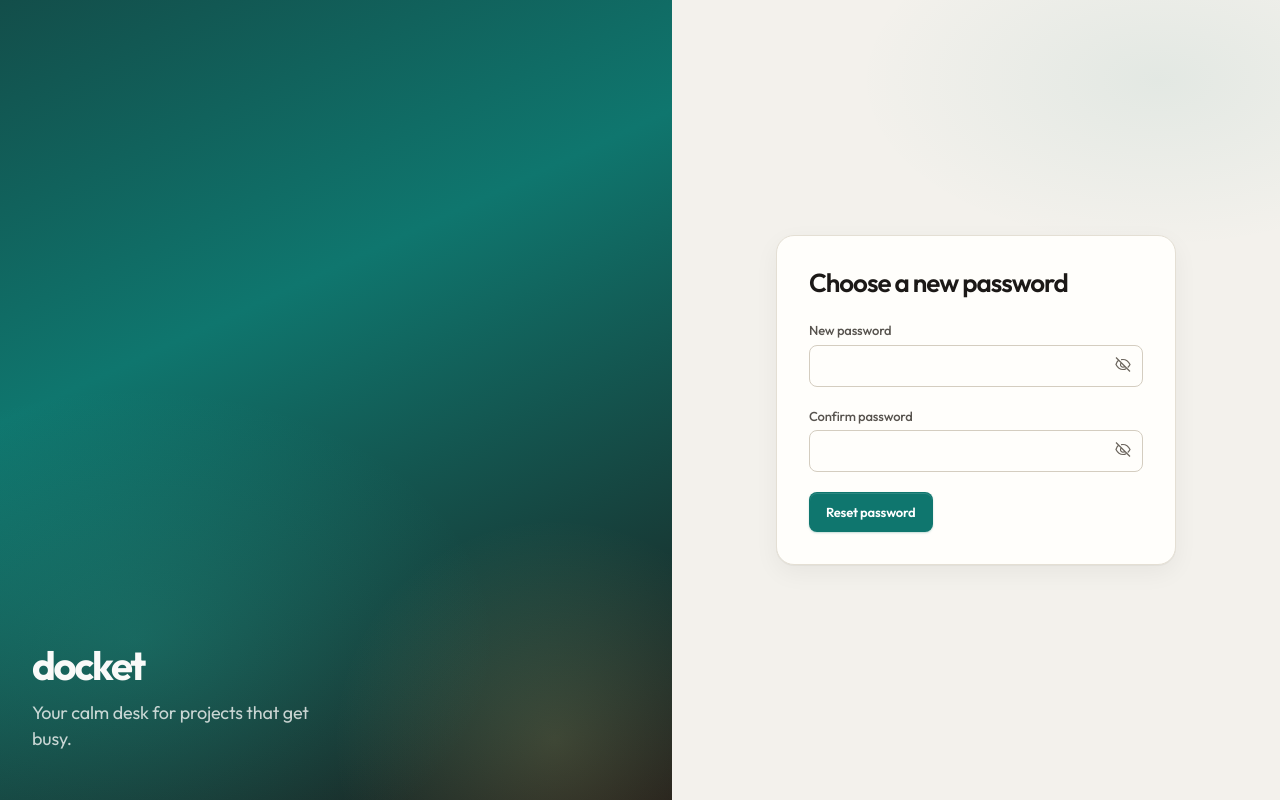
Test: ResetPasswordPage › shows success with a link to sign in after a matching reset
This screenshot has width=1280, height=800.
In the password field labelled "New password": (976, 366) left=809, top=344, right=1143, bottom=386, type "password123"
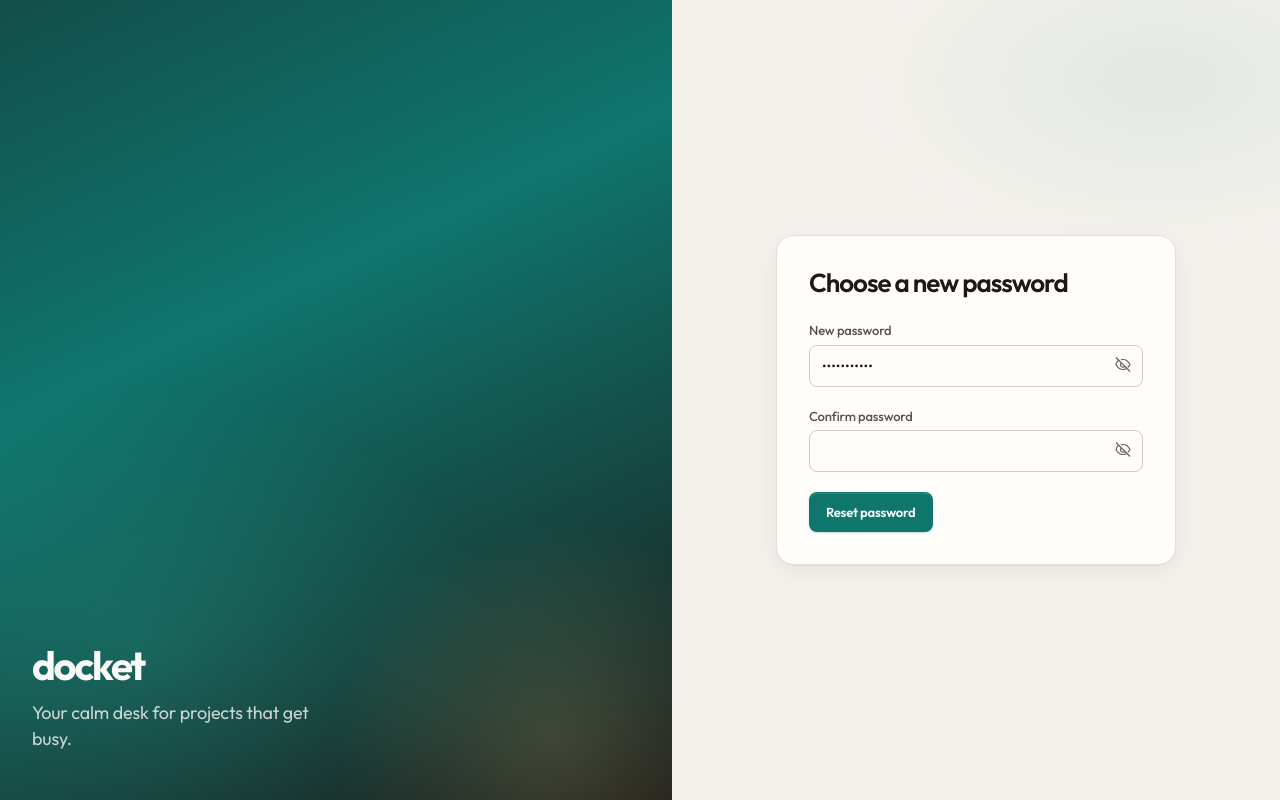
In the password field labelled "Confirm password": (976, 451) left=809, top=430, right=1143, bottom=472, type "password123"
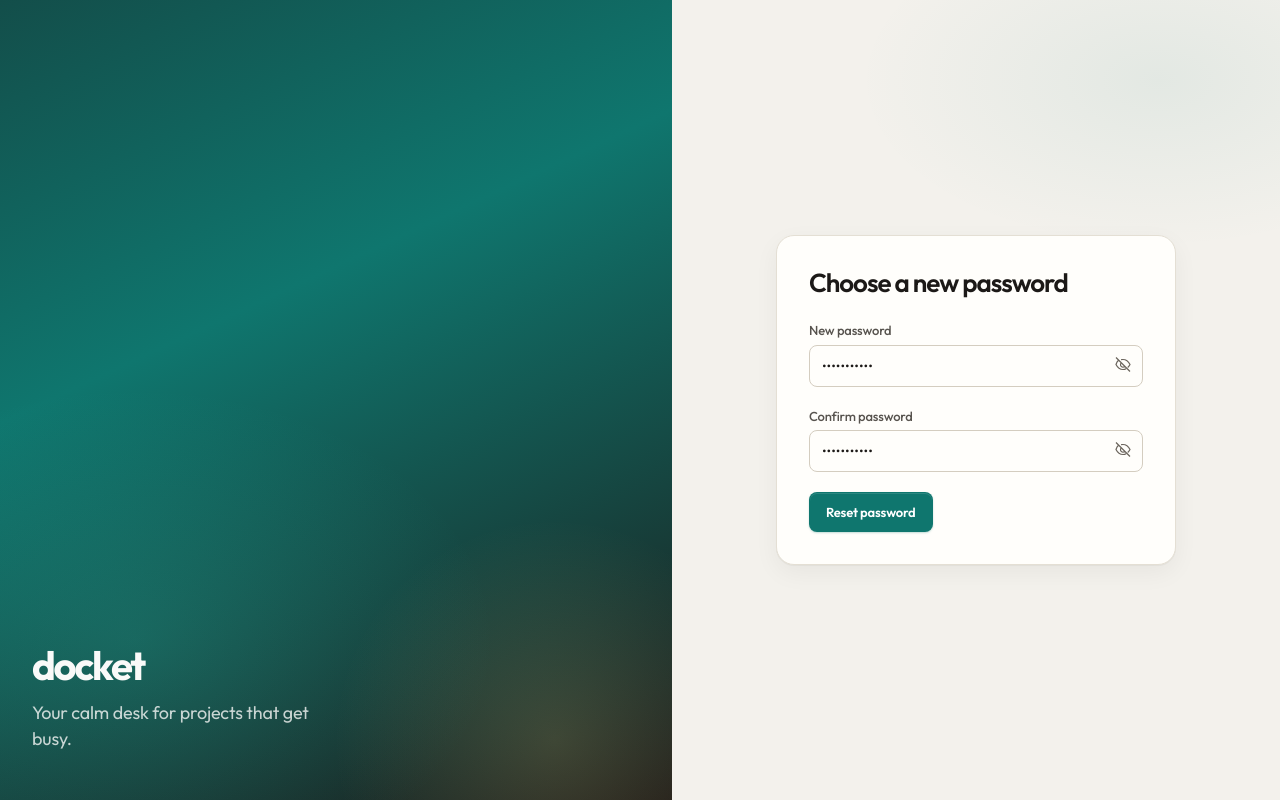
Click the button "Reset password": click(871, 512) left=809, top=492, right=932, bottom=532
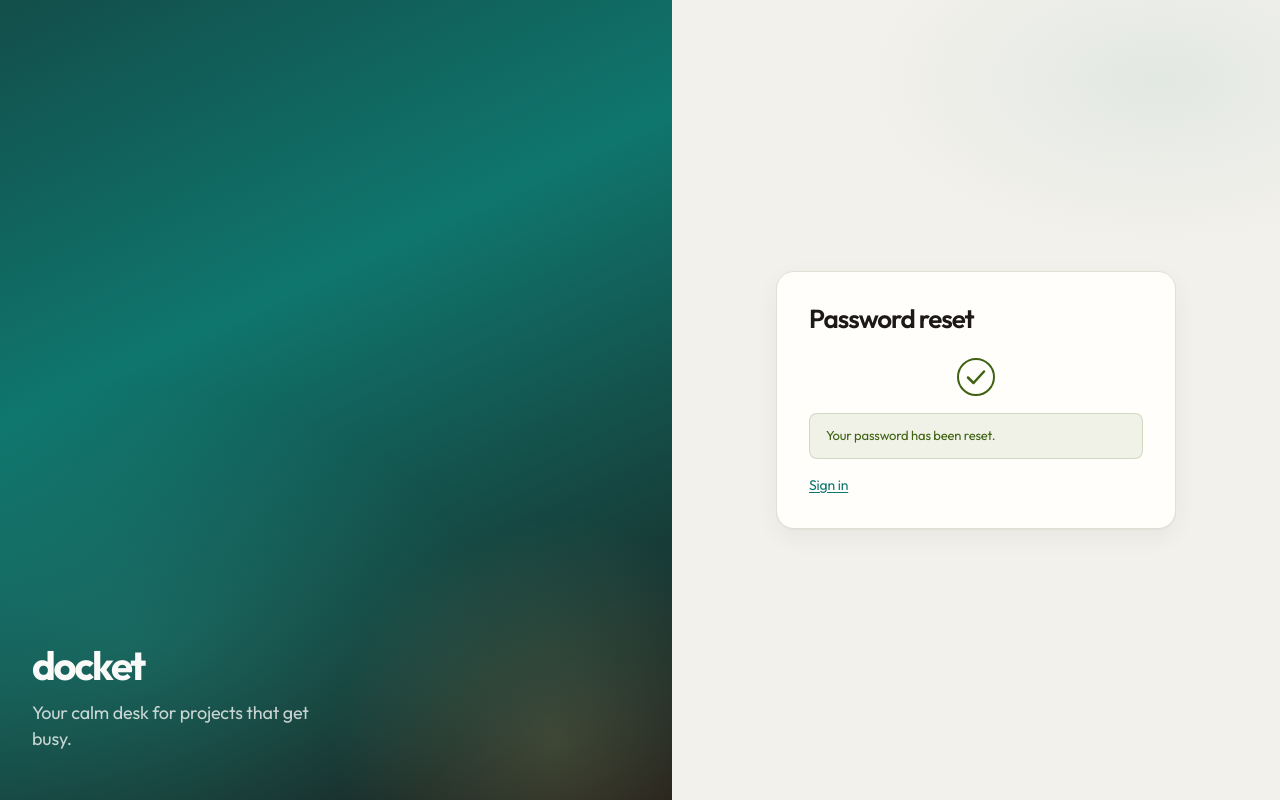
Check: the text "Your password has been reset." is shown, box left=809, top=413, right=1143, bottom=459
Check: the link "Sign in" is shown, box left=809, top=476, right=848, bottom=494
